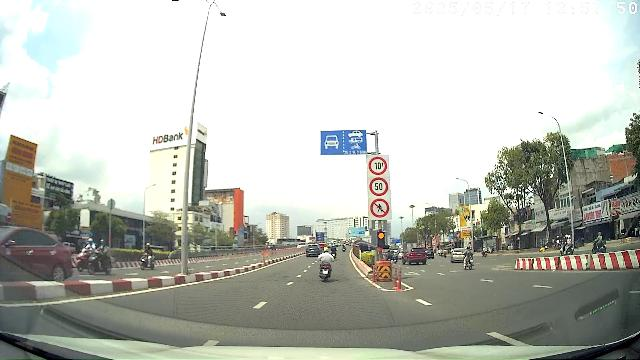127-toc-do-toi-da-50: (369, 177, 389, 197)
